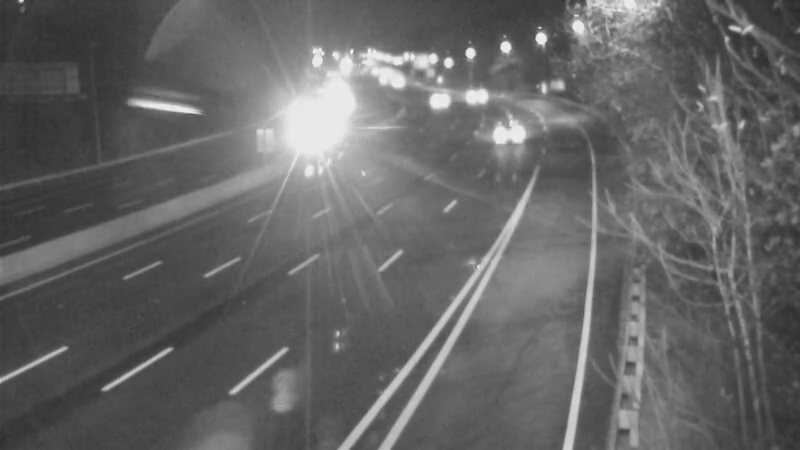vehicle: (410, 75, 460, 125), (451, 71, 501, 121), (482, 105, 532, 155)
